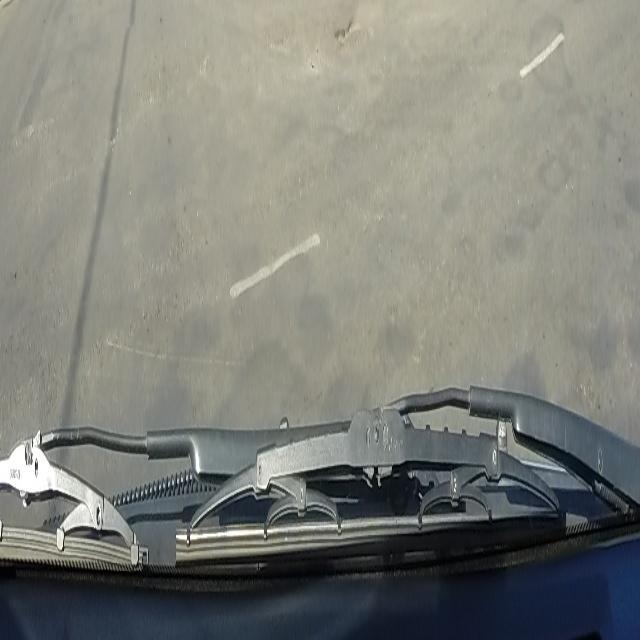pothole: (334, 16, 361, 45)
